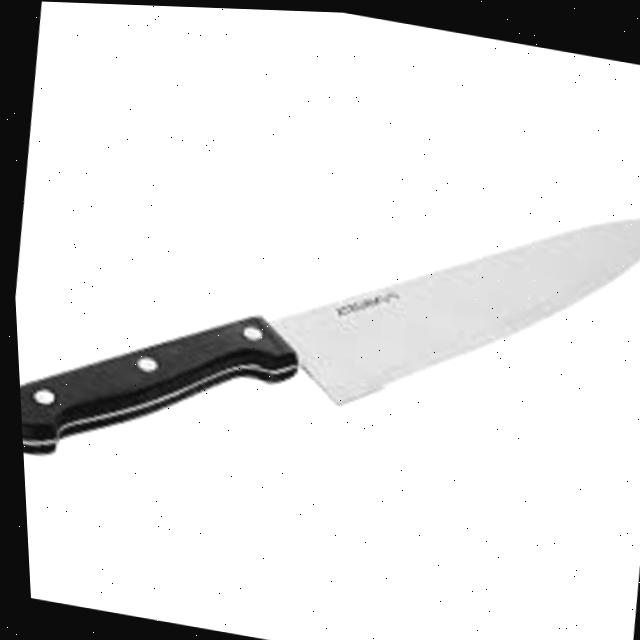Knife: (4, 98, 640, 558)
